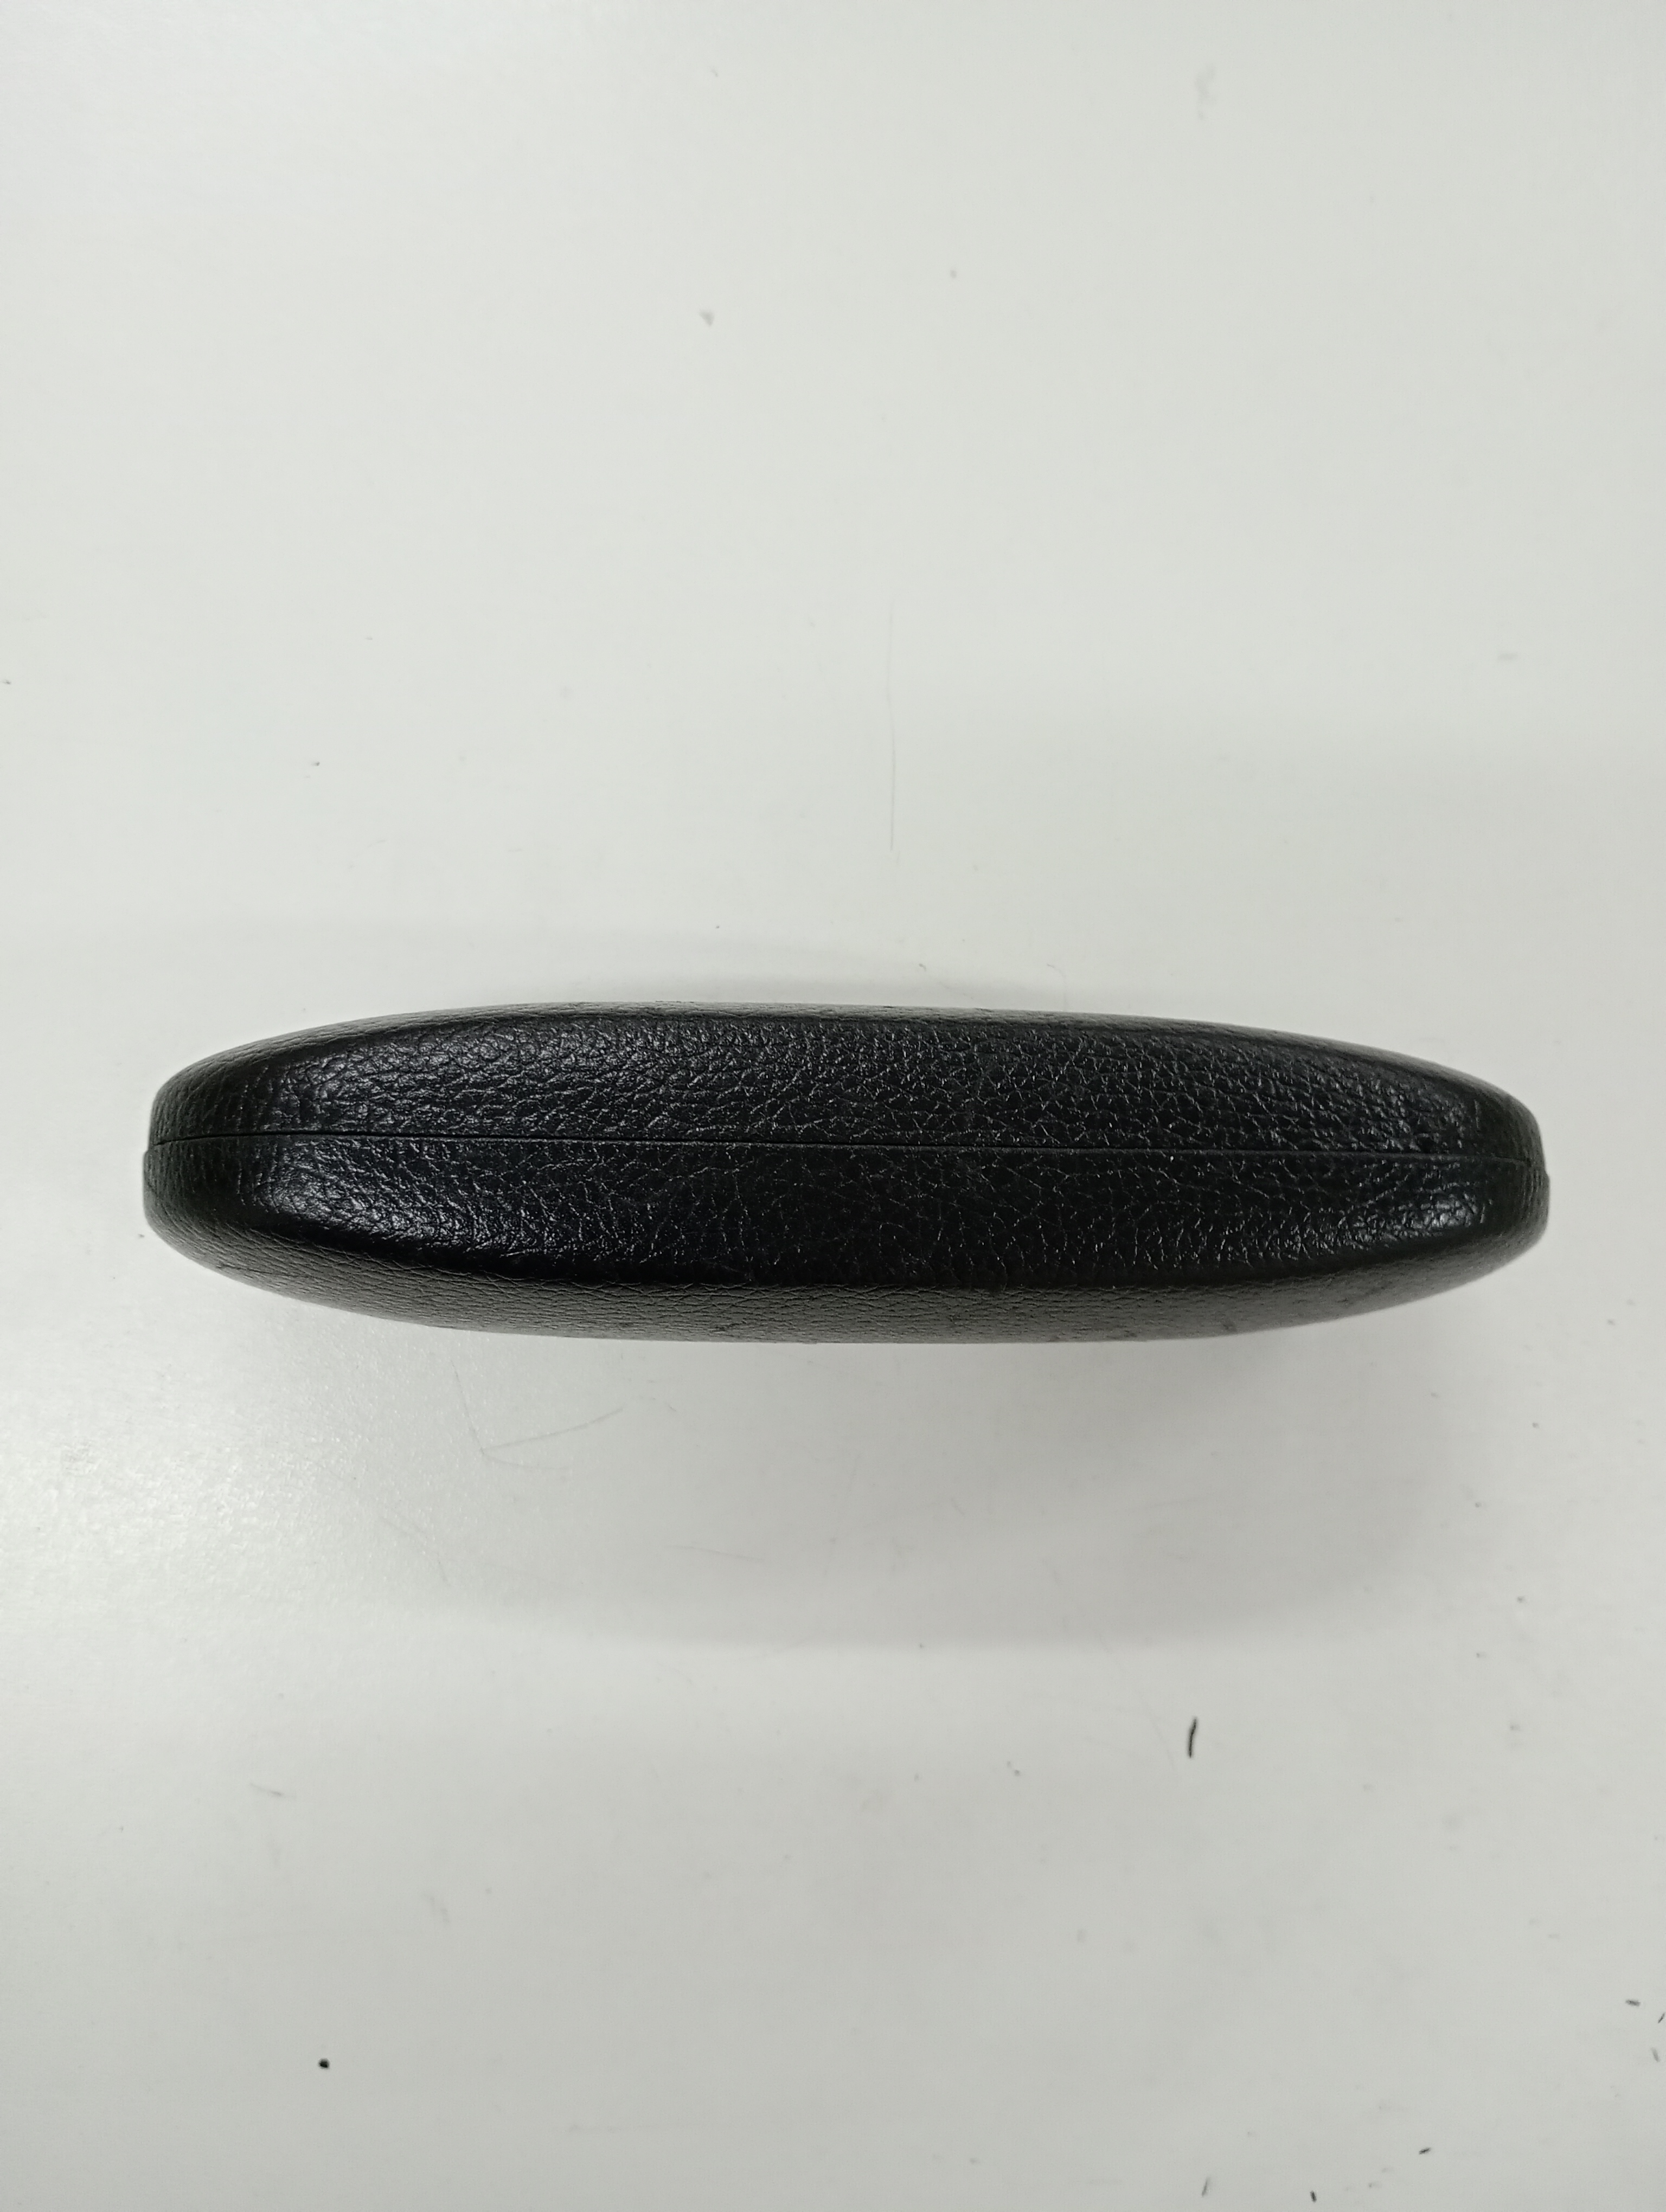estuche: (124, 981, 1570, 1362)
